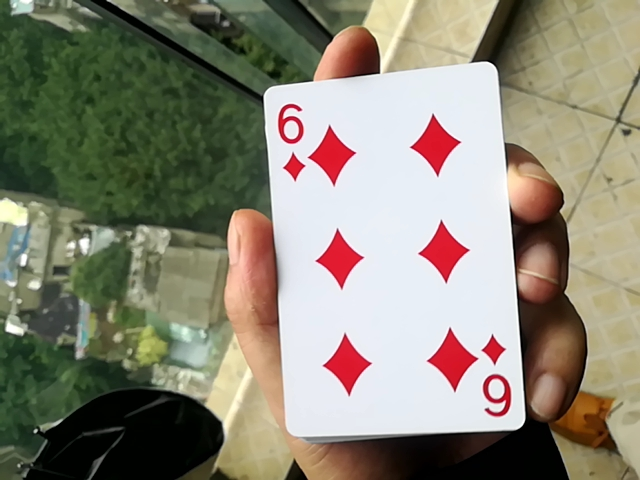fk 6: (244, 62, 538, 440)
